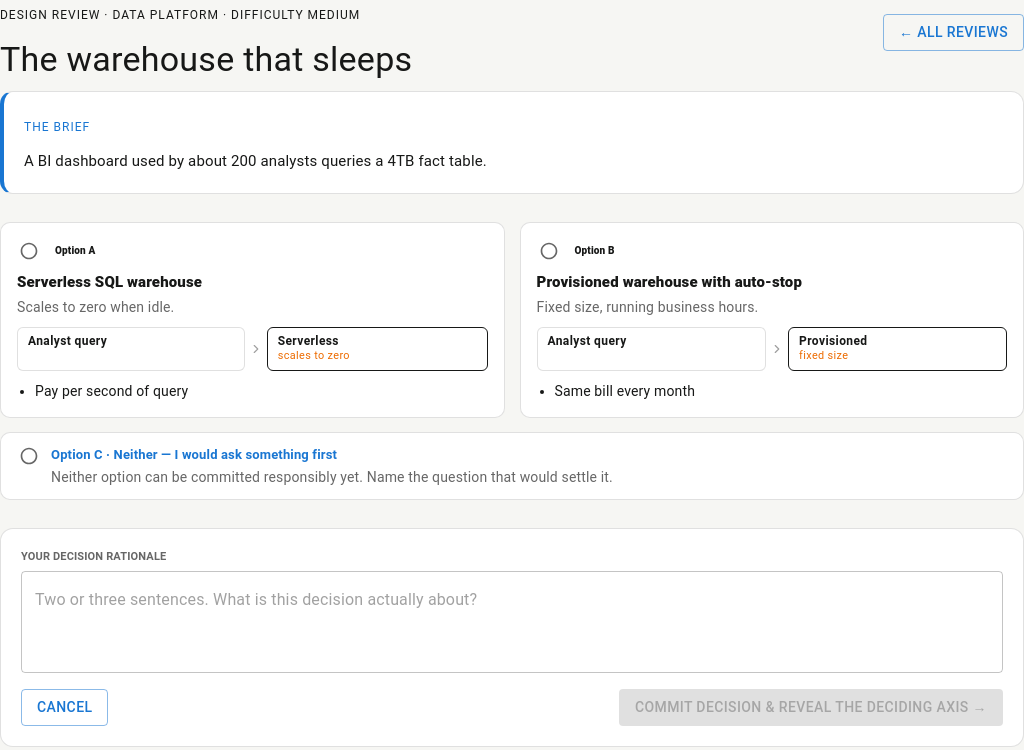
Scenario: DesignReviewPage › surfaces the server complaint when a "neither" names no question
Expected: the heading "Serverless SQL warehouse" is shown, [17,273,202,291]
Click the text "Option C · Neither — I would ask something first" at (194, 455), box [51,447,337,462]
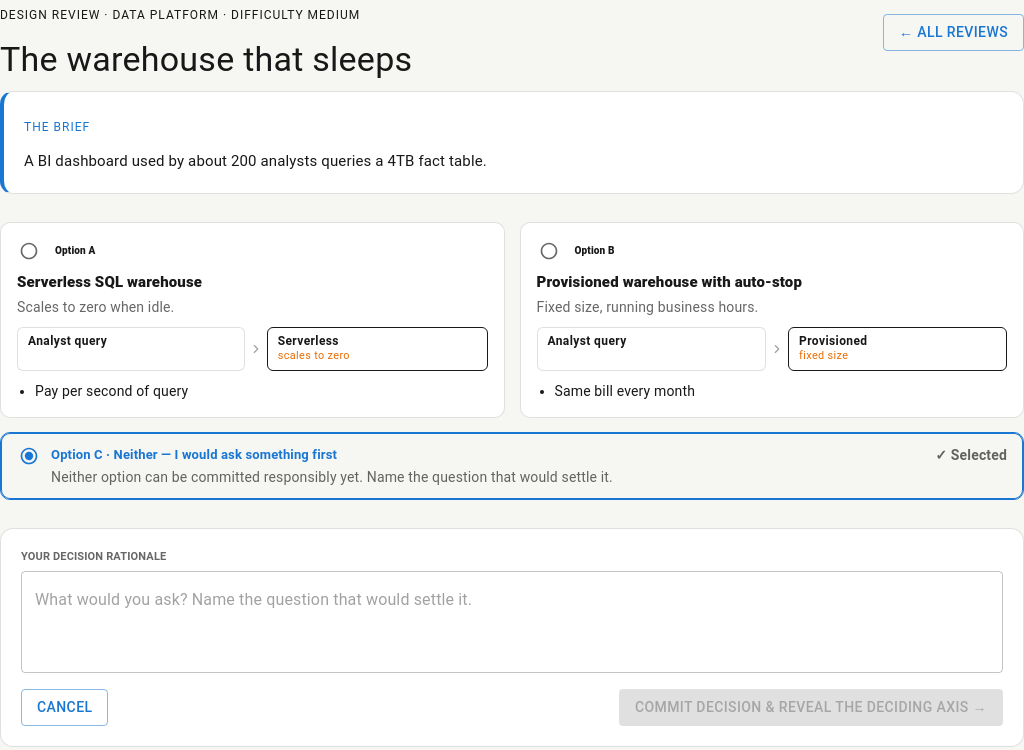
Type "I dislike both." into the text box with placeholder "What would you ask? Name the question that would settle it." at (512, 622), box [35,588,989,657]
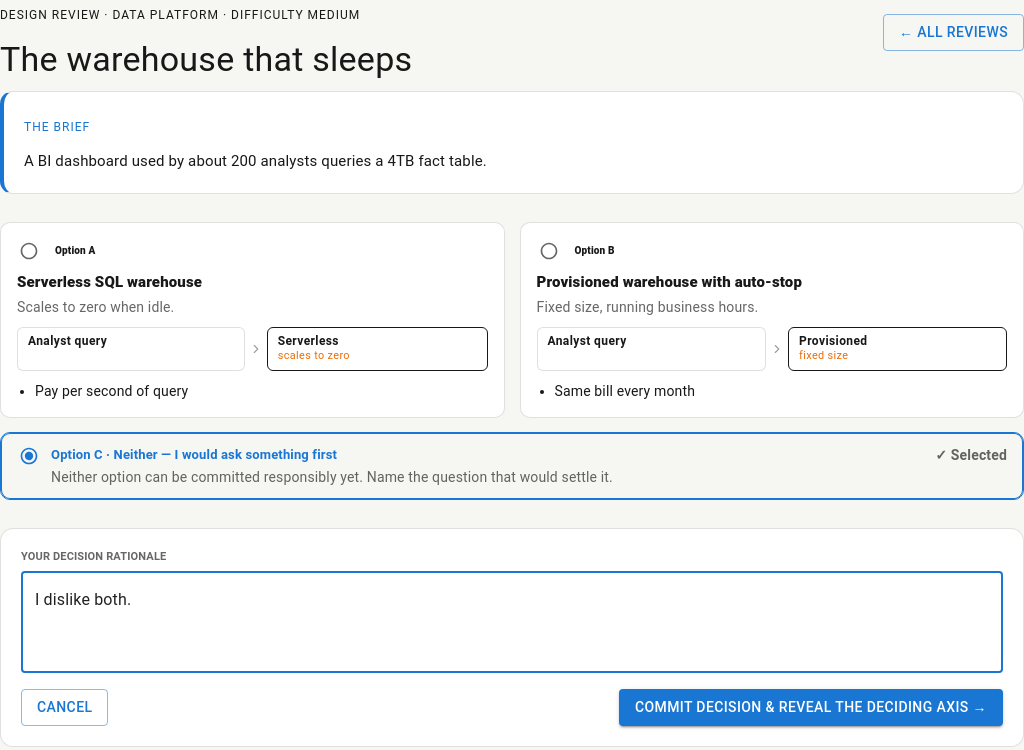
Click the button "Commit decision & reveal the deciding axis →" at (811, 707), box [619,689,1003,726]
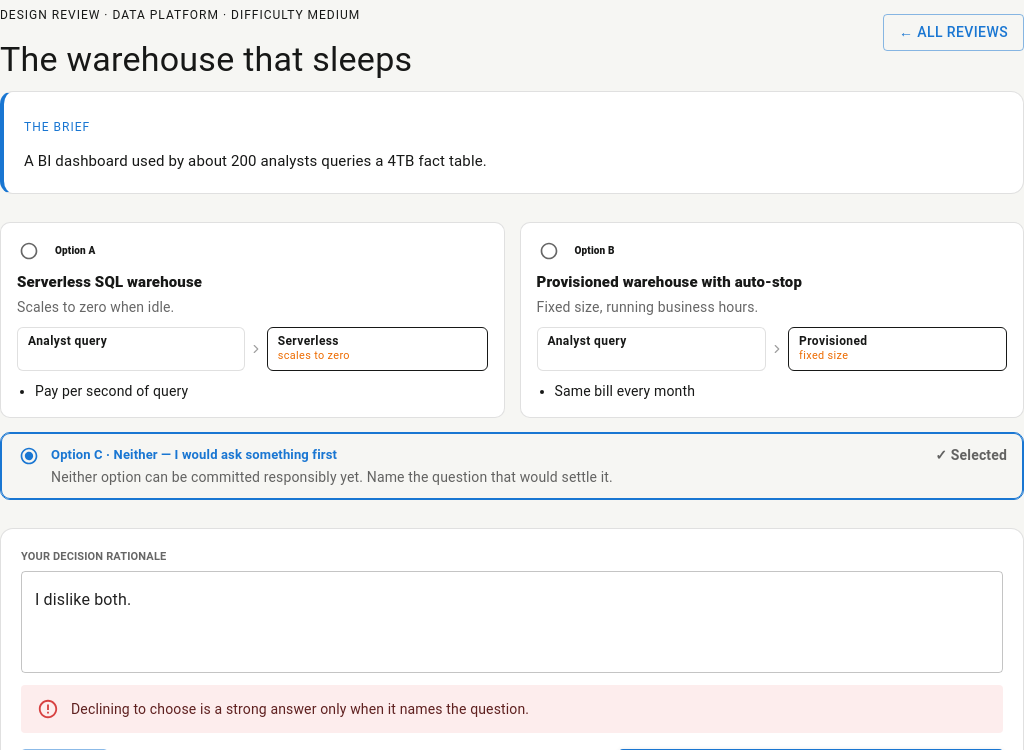
Result: the text "only when it names the question" is shown at [71,701,529,717]
